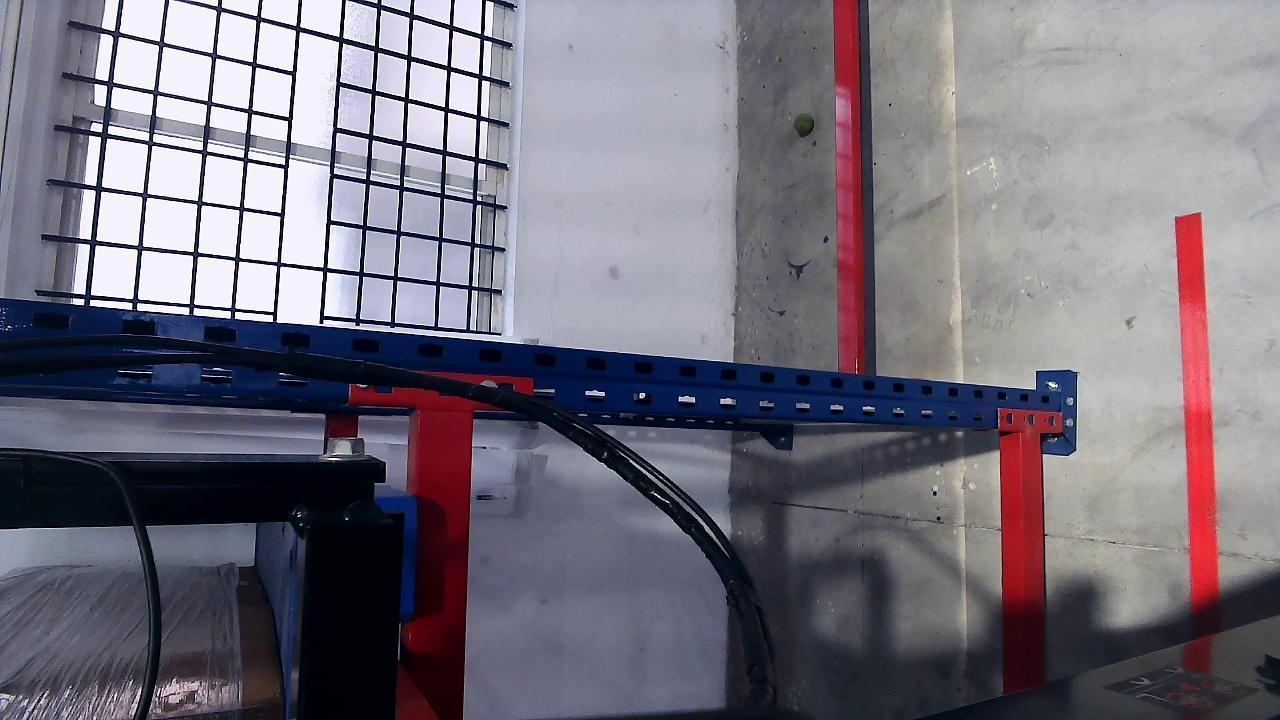red_line: (1175, 213, 1219, 603)
